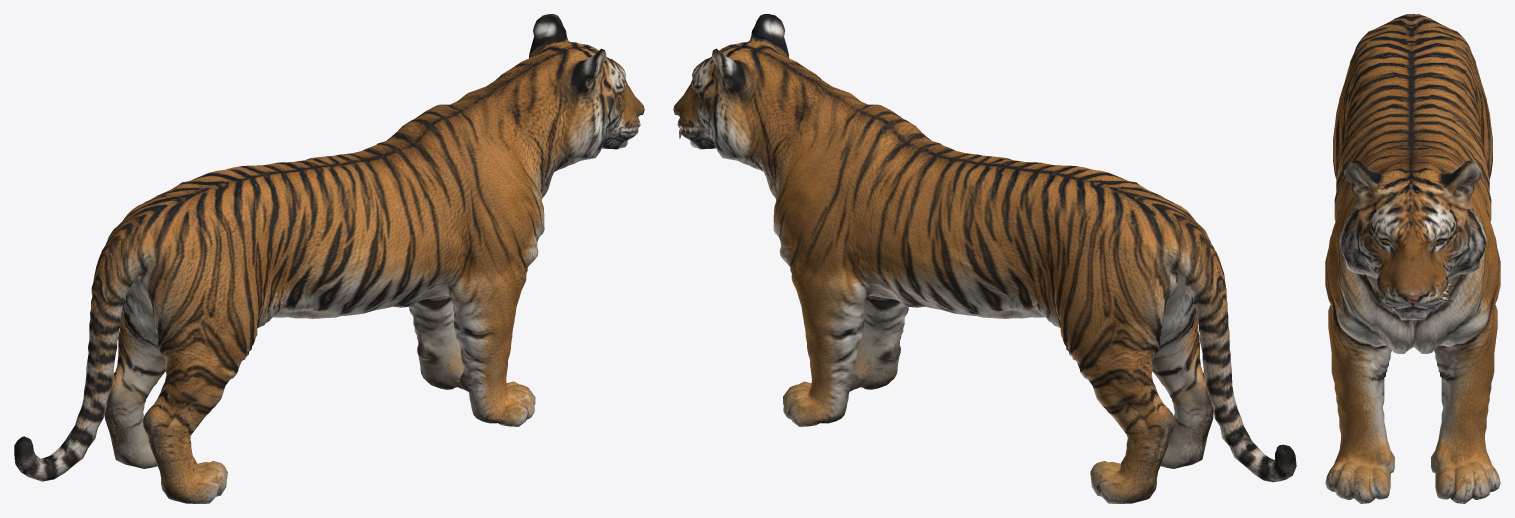
File: tiger.glb
The picture shows the model from 3 angles, left to right: view 1: azimuth 30°, elevation 25°; view 2: azimuth 150°, elevation 25°; view 3: azimuth 270°, elevation 25°; orthographic projection. The views are drawn at different scales.
Parts seen in each view (by area): view 1: tripo_node_e7126733-eb3e-40c2-a21a-3908cbb51b4e; view 2: tripo_node_e7126733-eb3e-40c2-a21a-3908cbb51b4e; view 3: tripo_node_e7126733-eb3e-40c2-a21a-3908cbb51b4e.
Boxes of the visible parts, x1,y1,x2,y2 form: tripo_node_e7126733-eb3e-40c2-a21a-3908cbb51b4e: (14, 14, 644, 503); tripo_node_e7126733-eb3e-40c2-a21a-3908cbb51b4e: (673, 14, 1296, 503); tripo_node_e7126733-eb3e-40c2-a21a-3908cbb51b4e: (1325, 14, 1500, 503).
Size of the model in its own units: 0.9788 by 0.5248 by 0.2164.
Materials: 1 (1 with a texture image).
